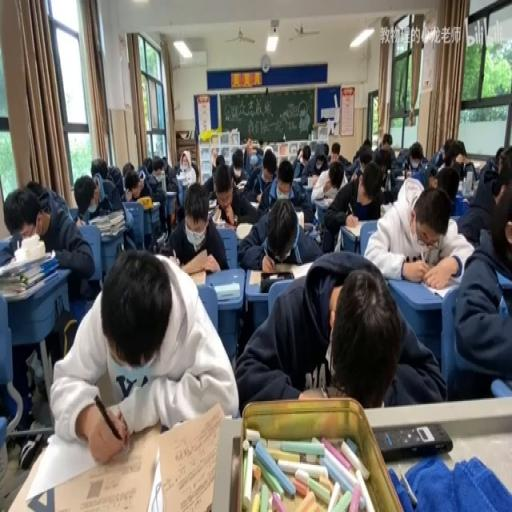calculator: (246, 259, 312, 283), (88, 208, 124, 238), (421, 277, 462, 299), (344, 216, 366, 238), (214, 282, 240, 300), (496, 266, 512, 289), (210, 206, 226, 228), (234, 222, 253, 240), (154, 230, 166, 248), (380, 200, 394, 214), (322, 188, 338, 200), (295, 209, 304, 229), (302, 220, 314, 234), (314, 196, 330, 206), (306, 175, 318, 188), (147, 199, 160, 209), (207, 196, 216, 208), (248, 199, 258, 209), (291, 176, 302, 184), (164, 189, 176, 196), (394, 172, 406, 179)
paper: (51, 248, 237, 462), (236, 253, 439, 411), (365, 176, 474, 289), (2, 181, 94, 304), (237, 186, 320, 268), (454, 148, 512, 256), (322, 156, 383, 250), (164, 180, 226, 272), (130, 156, 172, 234), (90, 155, 125, 203), (376, 145, 406, 199), (438, 140, 472, 180), (297, 142, 325, 179), (199, 155, 222, 198), (228, 146, 249, 192), (400, 140, 427, 174), (326, 138, 351, 173), (26, 179, 46, 199), (262, 150, 276, 174), (358, 150, 371, 174), (122, 160, 134, 178), (189, 161, 199, 182), (152, 159, 162, 179), (169, 160, 181, 176), (494, 146, 504, 165), (142, 155, 152, 172), (382, 131, 392, 148), (477, 161, 488, 176), (434, 149, 443, 165), (361, 136, 370, 150), (214, 154, 223, 168), (250, 138, 260, 148), (295, 148, 302, 162), (182, 156, 188, 170), (302, 154, 310, 164), (352, 149, 358, 162), (160, 155, 166, 168), (246, 135, 252, 145)
person: (374, 422, 451, 461)
